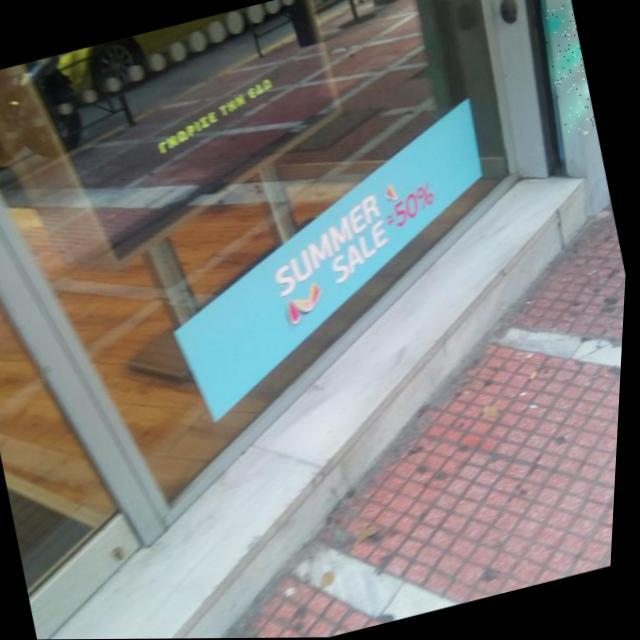-: (535, 2, 602, 134)
